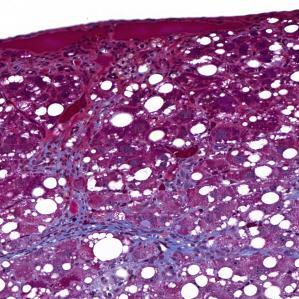fibrosis: (70, 190, 147, 245), (151, 223, 243, 269)
